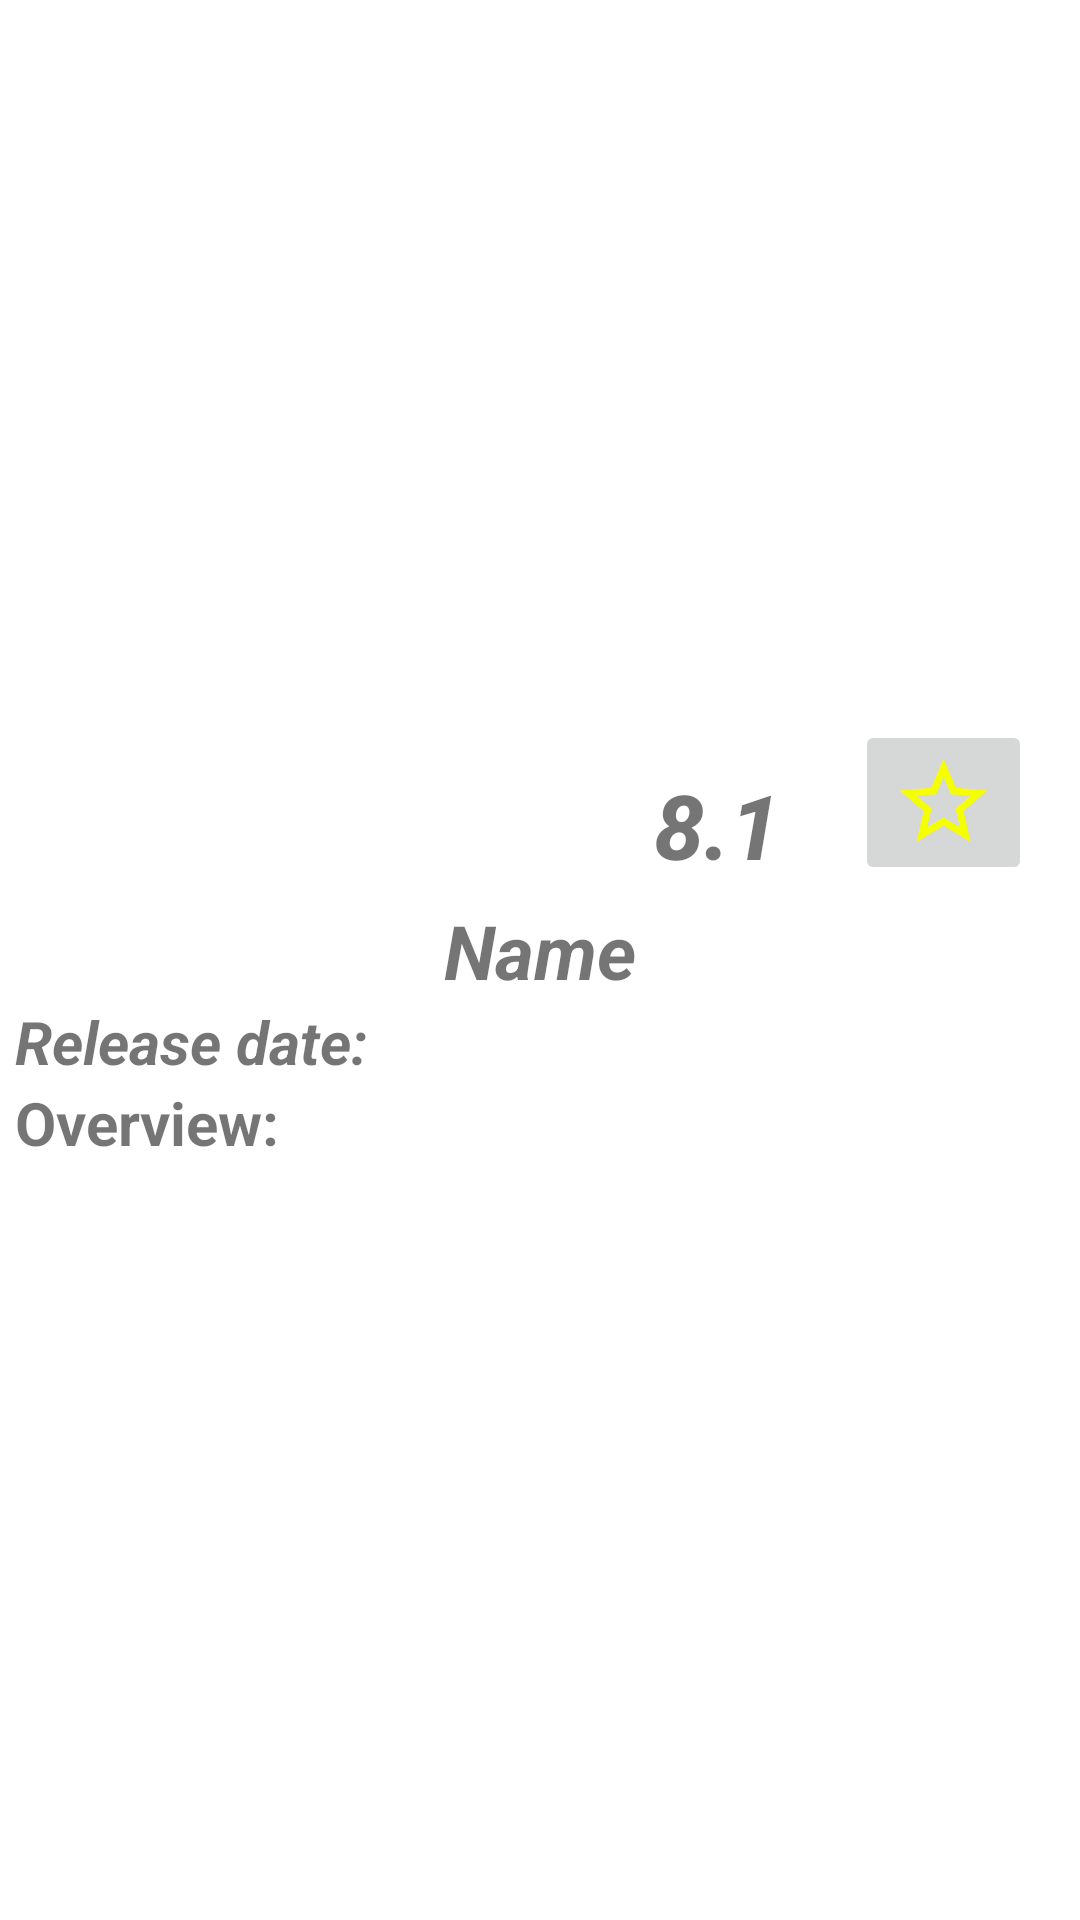

Screen size 1080*1920. Icon name, then its box in pixels as (x1, y1, x2, y2):
star: (867, 738, 1020, 867)
